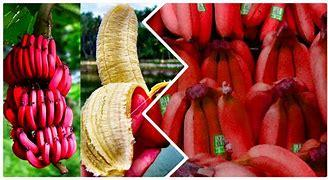banana: (162, 74, 318, 163), (165, 0, 328, 83), (86, 9, 164, 157), (10, 32, 80, 165)
